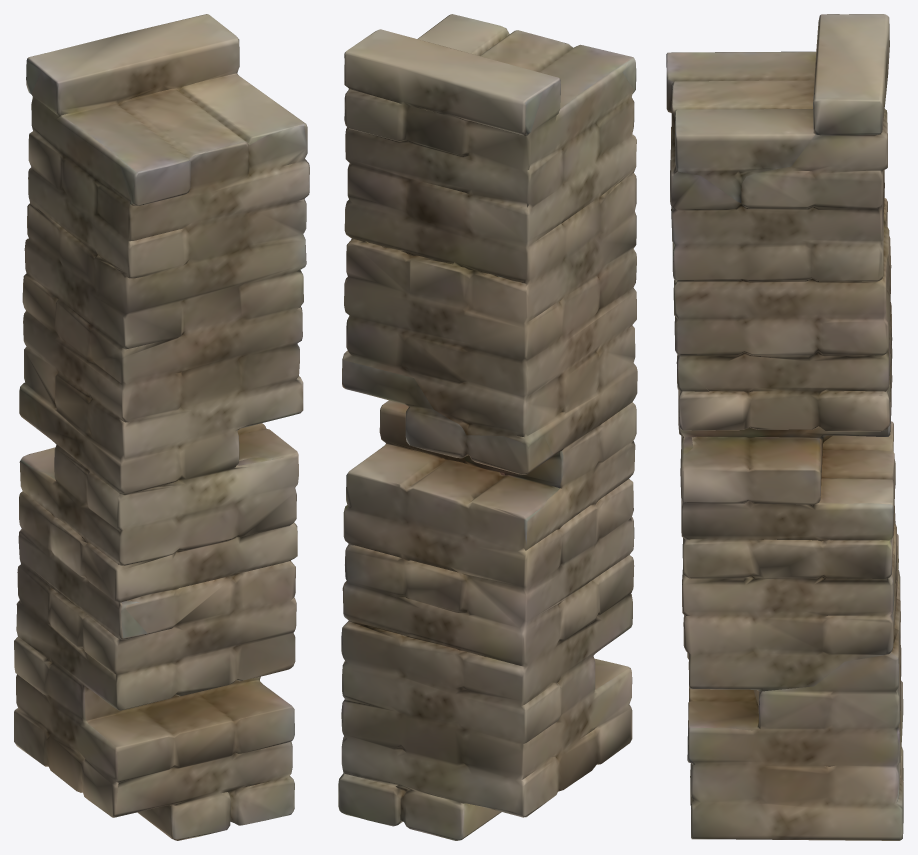
File: 2_of_Jenga_Classic_Game-high.glb
The picture shows the model from 3 angles, left to right: view 1: azimuth 30°, elevation 25°; view 2: azimuth 150°, elevation 25°; view 3: azimuth 270°, elevation 25°; orthographic projection. The views are drawn at different scales.
Parts seen in each view (by area): view 1: 2_of_Jenga_Classic_Game; view 2: 2_of_Jenga_Classic_Game; view 3: 2_of_Jenga_Classic_Game.
Boxes of the visible parts, x1,y1,x2,y2 form: 2_of_Jenga_Classic_Game: (14,14,309,840); 2_of_Jenga_Classic_Game: (338,14,637,840); 2_of_Jenga_Classic_Game: (666,14,903,840).
Bounding box in the file's own units: 0.0788 × 0.2921 × 0.0843.
1 material, 1 textured.
